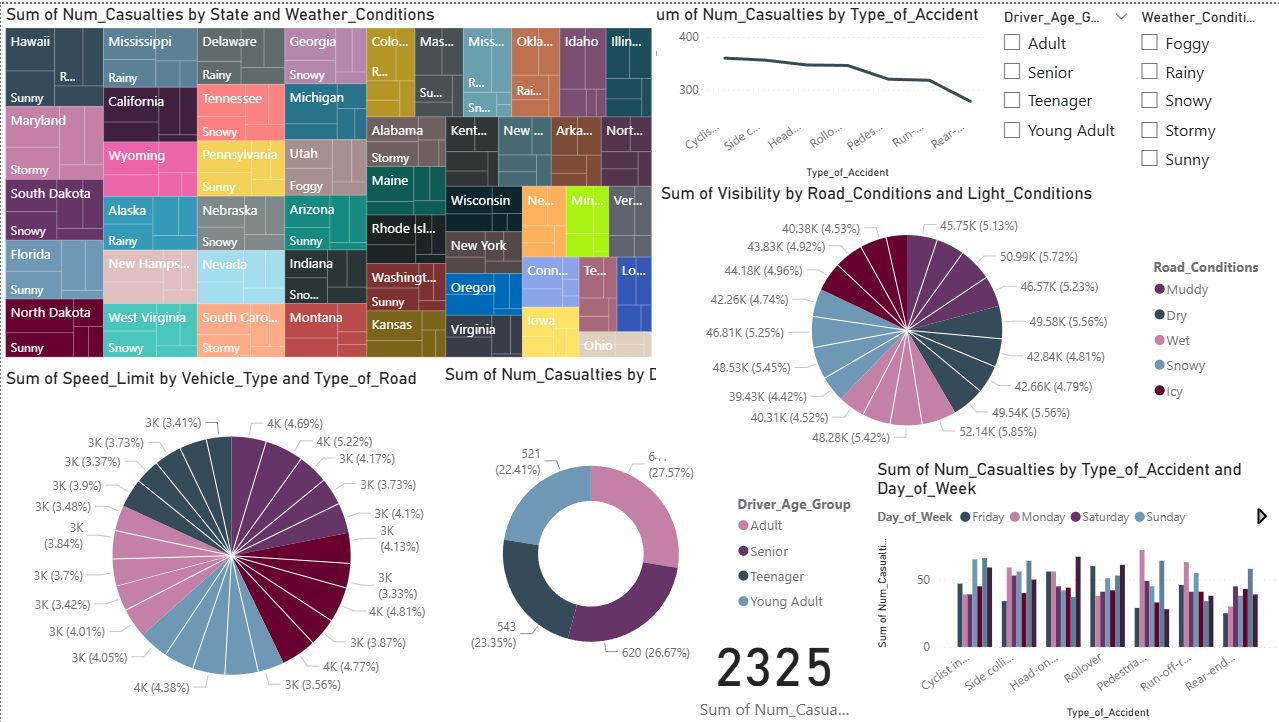

This screenshot's page, from the dashboard's own definition file:
{"tool":"powerbi","page":{"name":"Page 1","canvas":[1280,720],"ordinal":0},"visuals":[{"type":"pieChart","fields":{"Category":["cleaned_data.Vehicle_Type"],"Series":["cleaned_data.Type_of_Road"],"Y":["Sum(cleaned_data.Speed_Limit)"]},"box":[0,363.2,558.5,357],"z":0},{"type":"clusteredColumnChart","fields":{"Category":["cleaned_data.Type_of_Accident"],"Series":["cleaned_data.Day_of_Week"],"Y":["Sum(cleaned_data.Num_Casualties)"]},"box":[870.8,455.3,409.3,265],"z":1},{"type":"donutChart","fields":{"Category":["cleaned_data.Driver_Age_Group"],"Y":["Sum(cleaned_data.Num_Casualties)"]},"box":[439.1,359.5,431.7,360.7],"z":3},{"type":"lineChart","fields":{"Category":["cleaned_data.Type_of_Accident"],"Y":["Sum(cleaned_data.Num_Casualties)"]},"box":[639.4,0,350.8,179.1],"z":4},{"type":"pieChart","fields":{"Y":["Sum(cleaned_data.Visibility)"],"Category":["cleaned_data.Road_Conditions"],"Series":["cleaned_data.Light_Conditions"]},"box":[655.6,179.1,624.5,276.2],"z":6},{"type":"slicer","fields":{"Values":["cleaned_data.Driver_Age_Group"]},"box":[990.2,0,149.3,151.8],"z":7},{"type":"slicer","fields":{"Values":["cleaned_data.Weather_Conditions"]},"box":[1127,0,153,179.1],"z":8},{"type":"treemap","fields":{"Group":["cleaned_data.State"],"Details":["cleaned_data.Weather_Conditions"],"Values":["Sum(cleaned_data.Num_Casualties)"]},"box":[0,0,655.6,358.3],"z":9},{"type":"card","fields":{"Values":["Sum(cleaned_data.Num_Casualties)"]},"box":[693.8,613.8,160,106.2],"z":10}]}

Visuals, with their boxes in screenshot pixels (x1, y1, x2, y2), scaled from the page's 1280x720 canvas onto the 1279x722 screenshot:
pieChart - cleaned_data.Vehicle_Type x cleaned_data.Type_of_Road: (0,364,558,721)
clusteredColumnChart - cleaned_data.Type_of_Accident x cleaned_data.Day_of_Week: (870,457,1278,721)
donutChart - cleaned_data.Driver_Age_Group x Sum(cleaned_data.Num_Casualties): (439,360,870,721)
lineChart - cleaned_data.Type_of_Accident x Sum(cleaned_data.Num_Casualties): (639,0,989,180)
pieChart - Sum(cleaned_data.Visibility) x cleaned_data.Road_Conditions: (655,180,1278,457)
slicer - cleaned_data.Driver_Age_Group: (989,0,1139,152)
slicer - cleaned_data.Weather_Conditions: (1126,0,1278,180)
treemap - cleaned_data.State x cleaned_data.Weather_Conditions: (0,0,655,359)
card - Sum(cleaned_data.Num_Casualties): (693,616,853,721)
